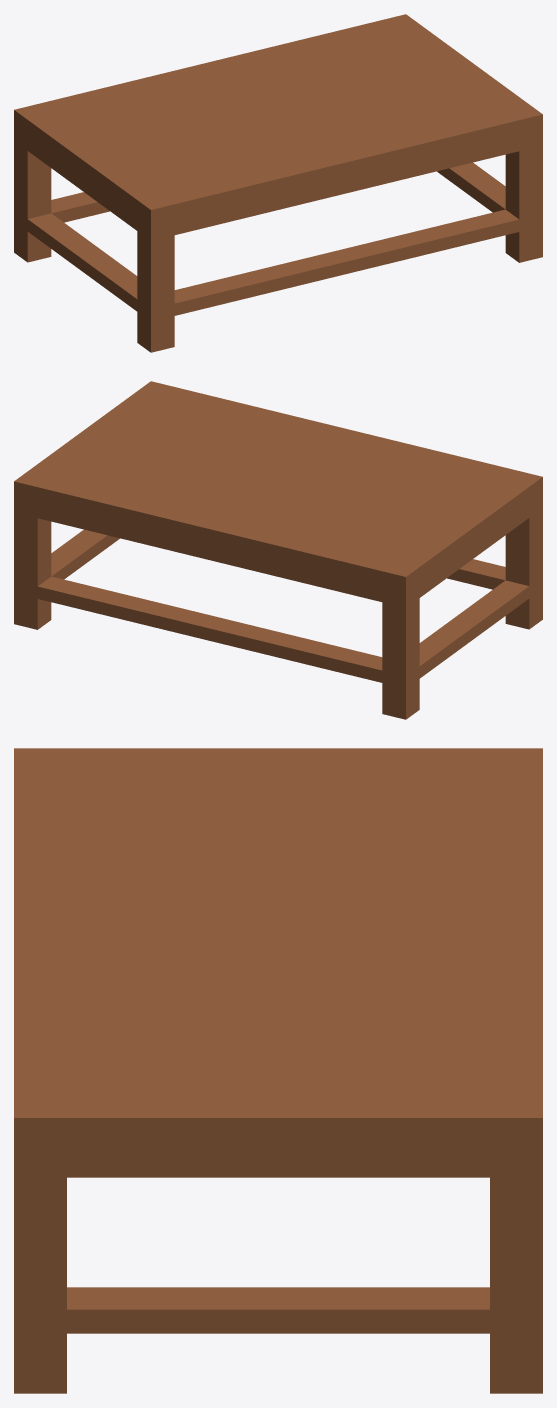
File: tableCoffee.fbx
3 views of the same model, one above another, from view 1: azimuth 30°, elevation 25°; view 2: azimuth 150°, elevation 25°; view 3: azimuth 270°, elevation 25° (orthographic). The views are drawn at different scales.
Visible parts, largest first — view 1: tableCoffee.003; view 2: tableCoffee.003; view 3: tableCoffee.003.
Boxes of the visible parts, bbox=[...] form: tableCoffee.003: bbox=[14, 14, 542, 352]; tableCoffee.003: bbox=[14, 381, 542, 719]; tableCoffee.003: bbox=[14, 748, 542, 1393].
Bounding box in the file's own units: 66.1 × 23 × 40.
